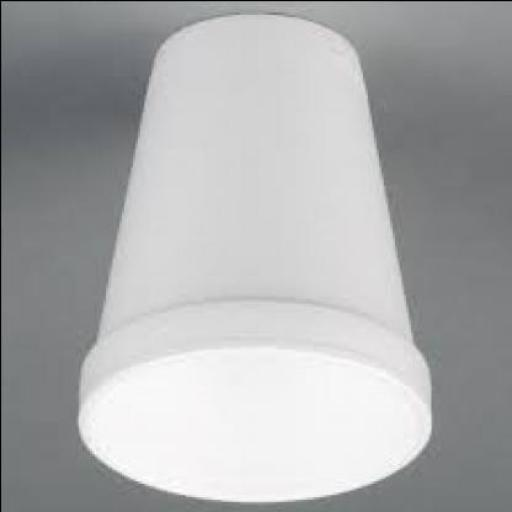paper: (78, 13, 432, 506)
